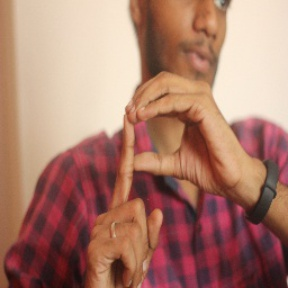P: (88, 72, 233, 273)
